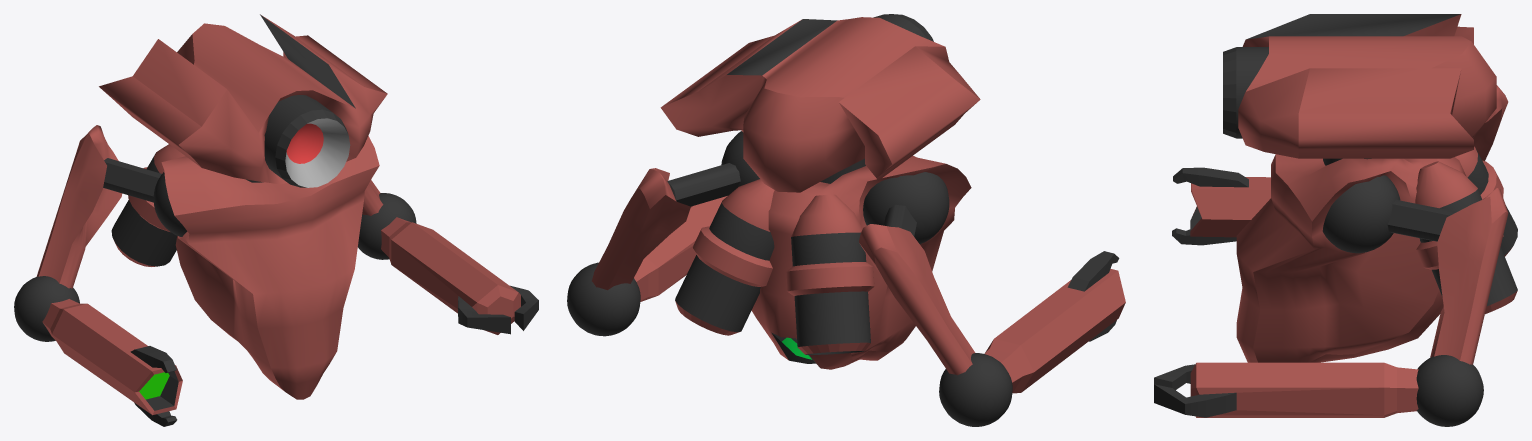
File: Enemy_drone.fbx
3 views of the same model, side by side, from view 1: azimuth 30°, elevation 25°; view 2: azimuth 150°, elevation 25°; view 3: azimuth 270°, elevation 25° (orthographic). The views are drawn at different scales.
Parts seen in each view (by area): view 1: Torso, Head, L_Cannon, R_Cannon, R_Arm_lower, Eye, R_thruster, R_Arm_upper, R_Hand_joint, L_Hand_joint, L_Arm_lower; view 2: Head, Torso, R_thruster, L_thruster, R_Cannon, R_Arm_lower, L_Arm_lower, R_Arm_upper, R_Hand_joint, L_Hand_joint, L_Cannon, L_Arm_upper (+1 smaller); view 3: Head, Torso, L_Cannon, L_Arm_lower, L_Arm_upper, R_Cannon, L_thruster, L_Hand_joint, Eye, R_thruster, R_Arm_lower.
Boxes of the visible parts, x1,y1,x2,y2 form: Torso: [161, 136, 379, 399]; Head: [99, 14, 387, 184]; L_Cannon: [381, 217, 538, 334]; R_Cannon: [42, 299, 182, 426]; R_Arm_lower: [36, 125, 122, 288]; Eye: [264, 95, 350, 187]; R_thruster: [111, 144, 185, 266]; R_Arm_upper: [103, 158, 187, 236]; R_Hand_joint: [14, 276, 79, 341]; L_Hand_joint: [358, 193, 416, 259]; L_Arm_lower: [362, 180, 383, 215]; Head: [660, 17, 980, 192]; Torso: [741, 130, 971, 369]; R_thruster: [786, 194, 874, 354]; L_thruster: [675, 179, 774, 335]; R_Cannon: [984, 251, 1125, 393]; R_Arm_lower: [859, 224, 975, 375]; L_Arm_lower: [592, 168, 690, 290]; R_Arm_upper: [863, 172, 949, 243]; R_Hand_joint: [939, 353, 1012, 426]; L_Hand_joint: [567, 262, 640, 336]; L_Cannon: [634, 196, 727, 301]; L_Arm_upper: [667, 131, 759, 206]; Head: [1238, 14, 1496, 158]; Torso: [1236, 154, 1465, 362]; L_Cannon: [1154, 362, 1418, 417]; L_Arm_lower: [1430, 188, 1508, 364]; L_Arm_upper: [1322, 175, 1456, 253]; R_Cannon: [1172, 167, 1270, 245]; L_thruster: [1415, 161, 1517, 314]; L_Hand_joint: [1416, 355, 1483, 426]; Eye: [1223, 47, 1268, 138]; R_thruster: [1455, 146, 1517, 256]; R_Arm_lower: [1473, 85, 1508, 160].
Bounding box in the file's own units: 2.56 × 1.85 × 1.83.
